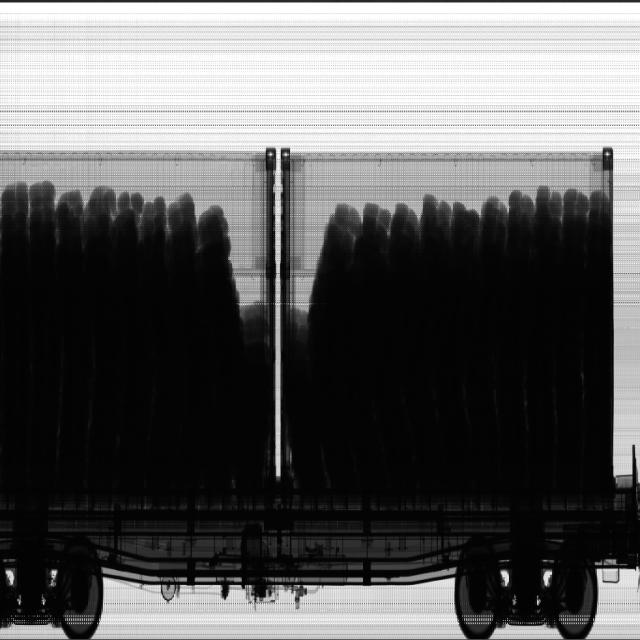clothes: (291, 187, 606, 482), (3, 180, 264, 492)
